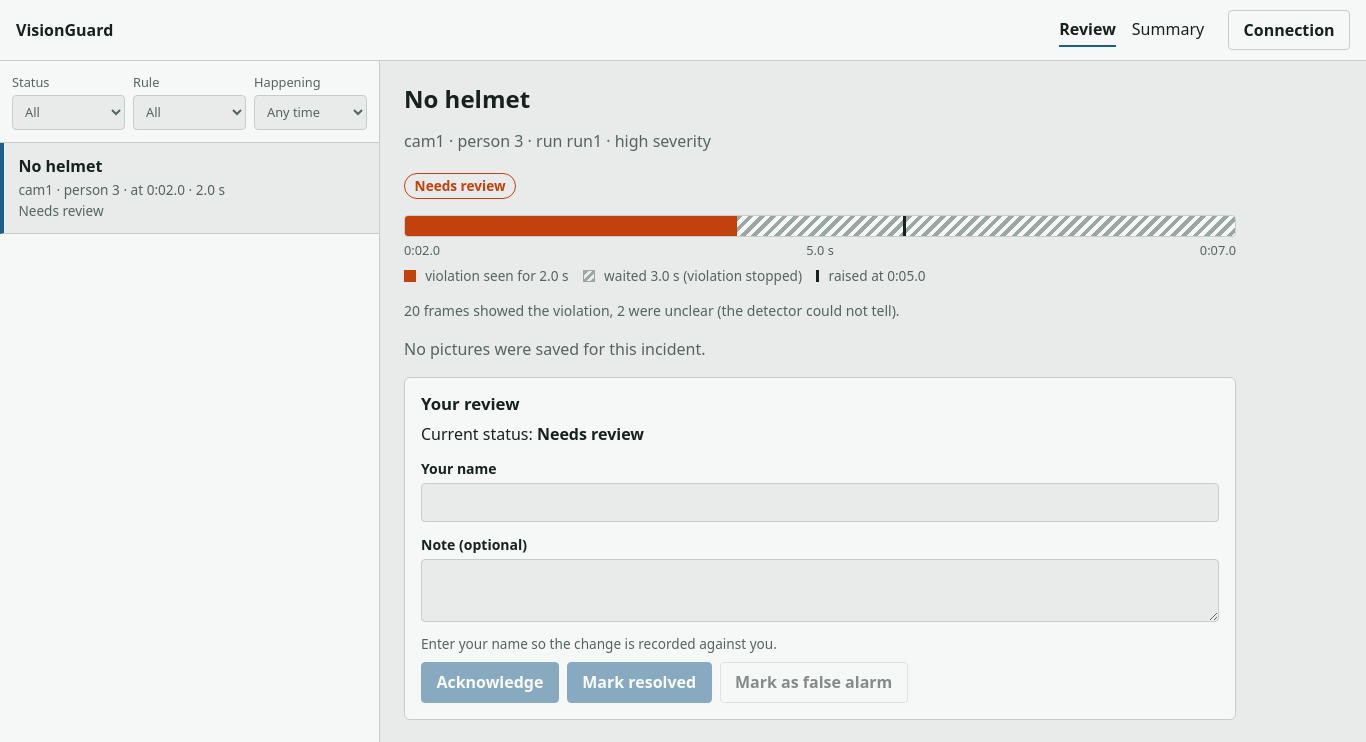
Test: App › lists incidents and reviews one
Expected: the heading "No helmet" is shown, [404, 82, 530, 115]
Step 1. Type "Sam" into the field labelled "Your name" → (820, 503), box [421, 483, 1219, 522]
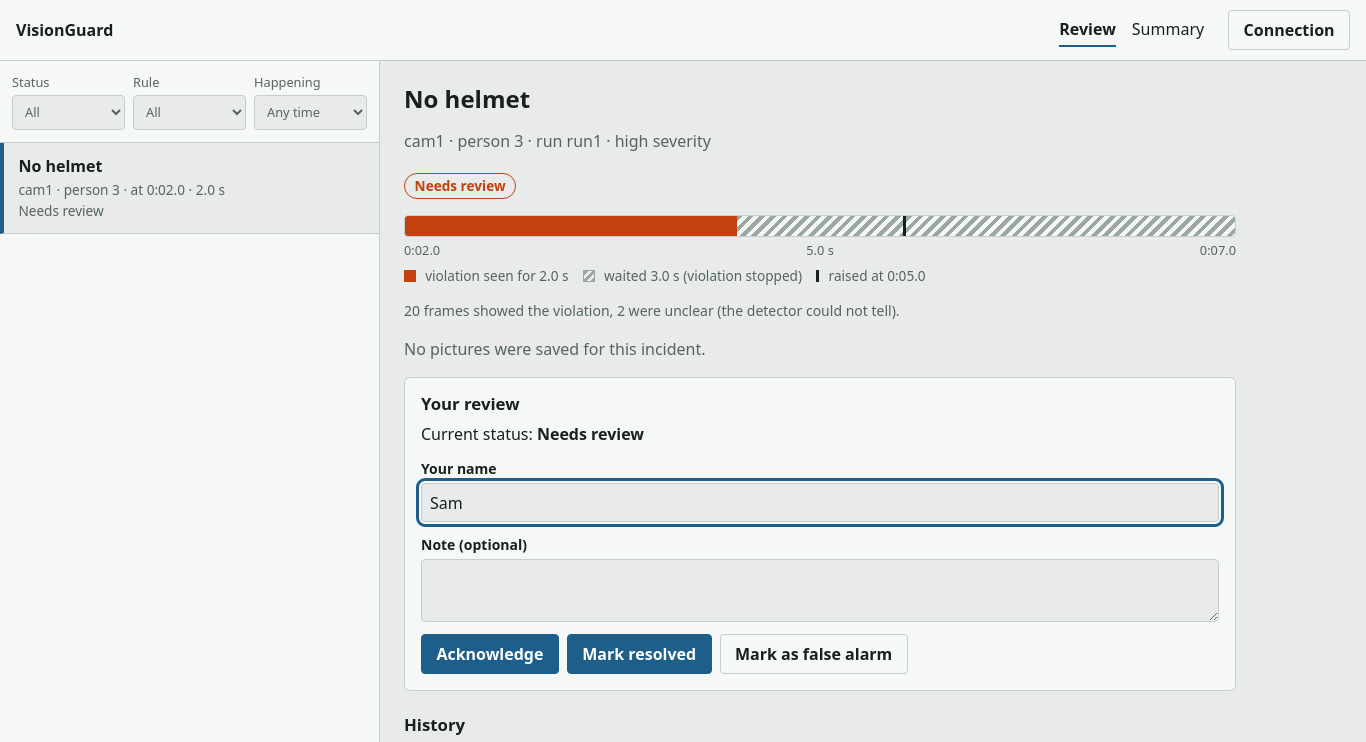
Step 2. Click the button "Acknowledge" → (490, 654), box [421, 634, 559, 674]
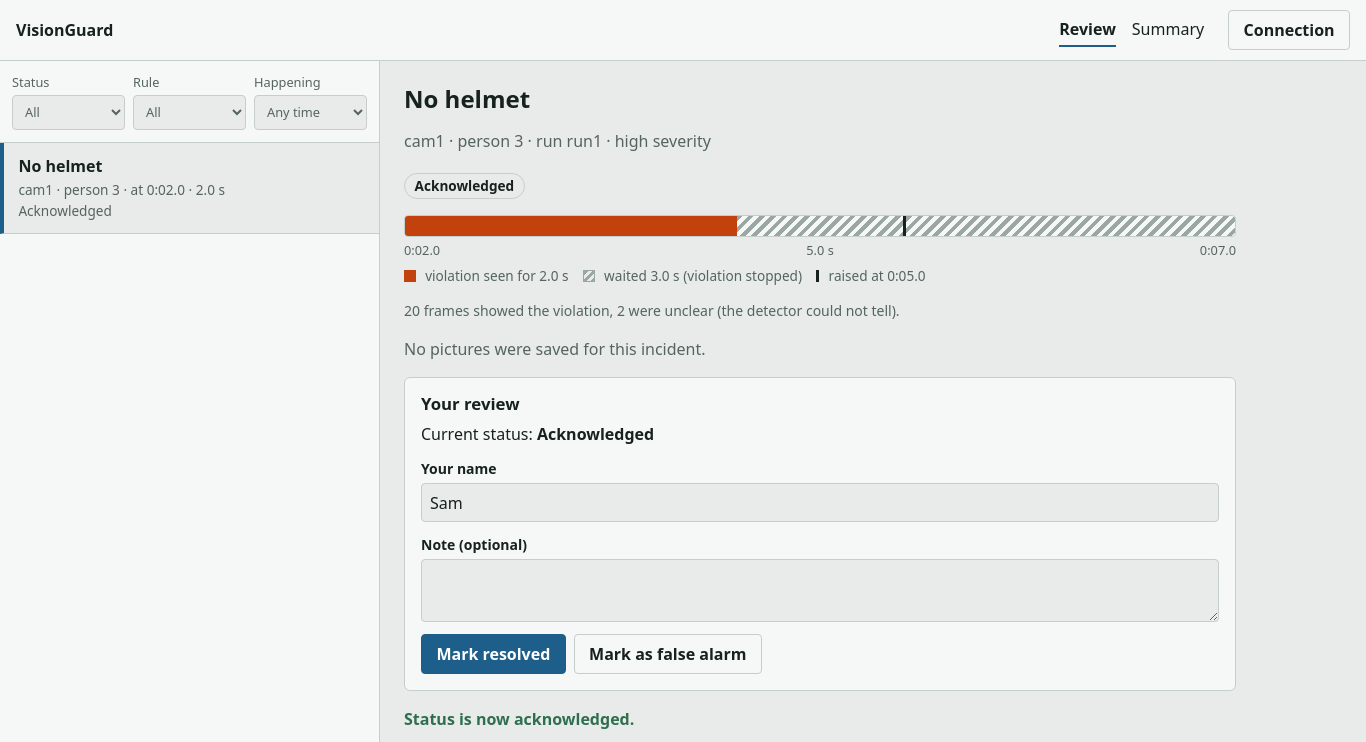
Now the text "Status is now acknowledged." is shown, box [404, 708, 634, 730]
